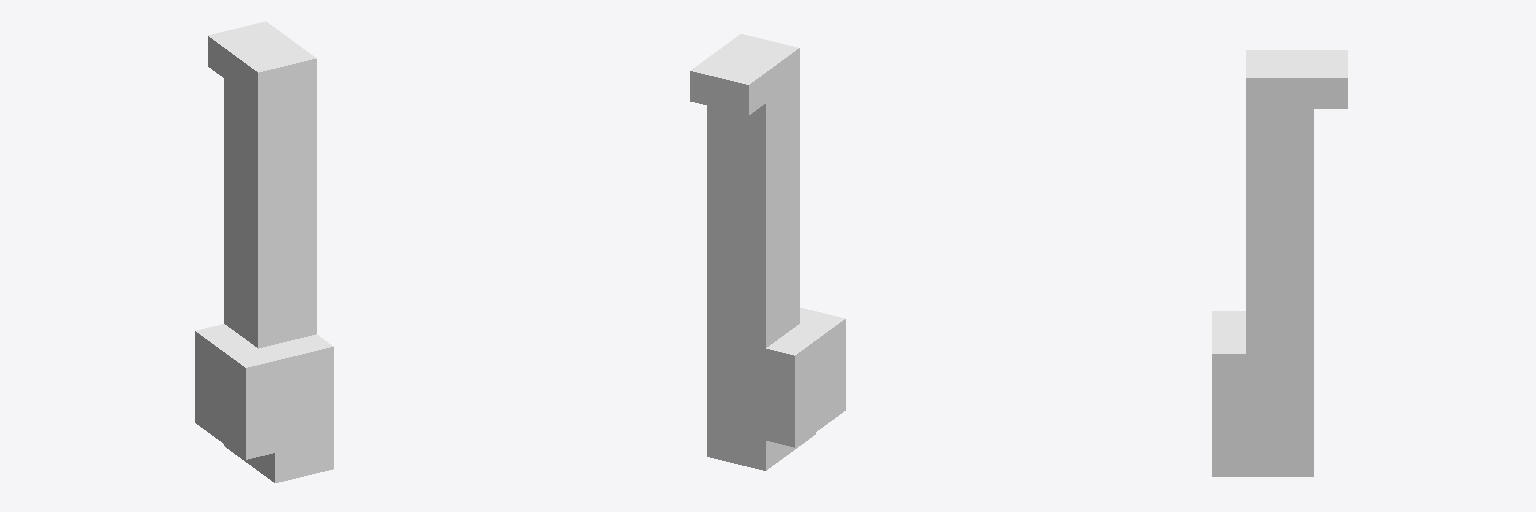
Rendered from a792_BasicGuard_forearm_L.obj.
The picture shows the model from 3 angles: view 1: azimuth 30°, elevation 25°; view 2: azimuth 150°, elevation 25°; view 3: azimuth 270°, elevation 25°; orthographic projection.
Size of the model in its own units: 3 by 13 by 4.